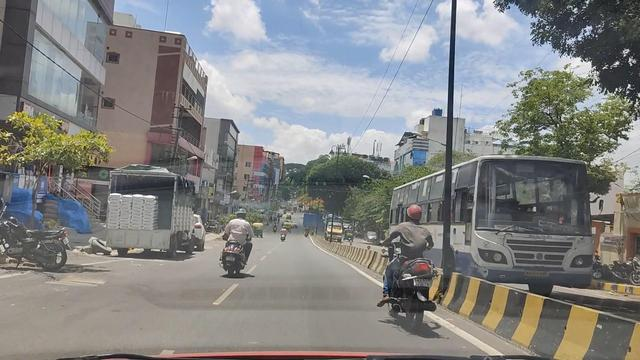LMV: (102, 163, 200, 270)
